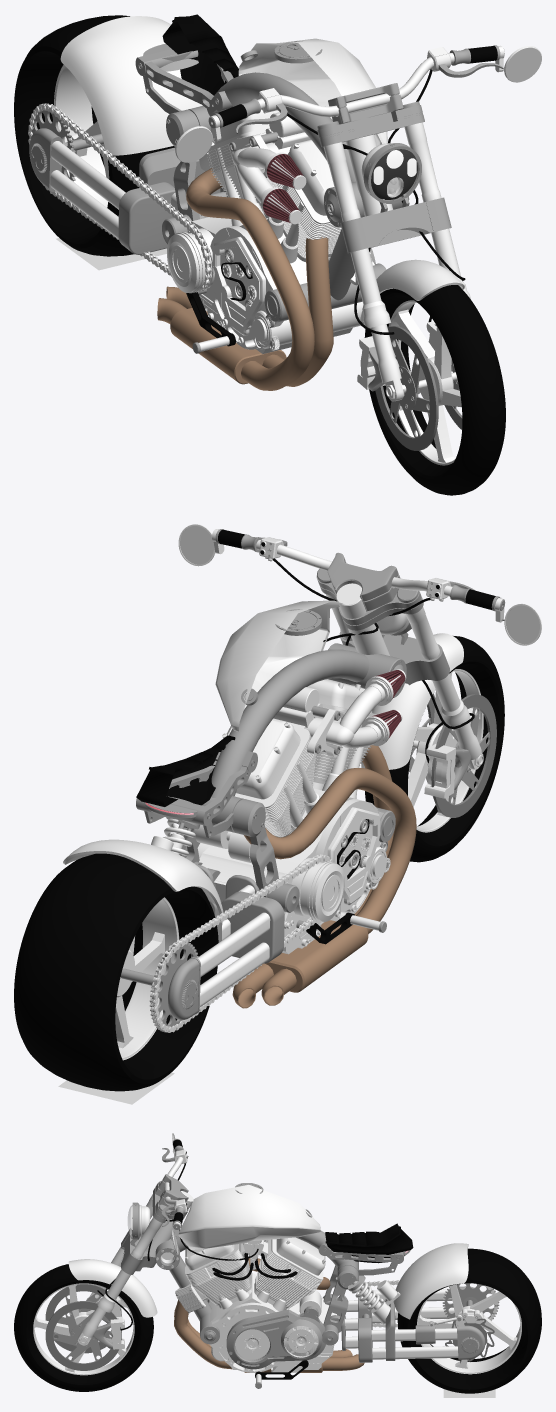
File: velocity-bike.glb
3 views of the same model, one above another, from view 1: azimuth 30°, elevation 25°; view 2: azimuth 150°, elevation 25°; view 3: azimuth 270°, elevation 25° (orthographic). The views are drawn at different scales.
Parts seen in each view (by area): view 1: Engine, front_bar, front_tire, Back, Frame, Back_tire, fuel_tank, Front_bar_suspension, saddle, chain, cables, Plane (+1 smaller); view 2: Engine, Back_tire, front_bar, Frame, Back, front_tire, fuel_tank, Front_bar_suspension, saddle, chain, Plane, cables (+1 smaller); view 3: Engine, front_tire, Back_tire, Back, fuel_tank, Frame, front_bar, Engine_cap, Front_bar_suspension, saddle, back_suspension_Bottom, Spring (+1 smaller).
Part boxes in pixels (<box>): Engine: <box>157,109,374,390</box>; front_bar: <box>175,45,541,328</box>; front_tire: <box>364,285,505,495</box>; Back: <box>29,16,227,254</box>; Frame: <box>135,43,409,353</box>; Back_tire: <box>14,15,174,256</box>; fuel_tank: <box>238,38,387,145</box>; Front_bar_suspension: <box>357,259,464,401</box>; saddle: <box>162,14,238,95</box>; chain: <box>28,103,212,292</box>; cables: <box>287,69,465,359</box>; Plane: <box>56,238,166,270</box>; Engine: <box>194,669,416,1008</box>; Back_tire: <box>14,853,218,1091</box>; front_bar: <box>178,524,541,729</box>; Frame: <box>136,643,406,944</box>; Back: <box>63,839,284,1019</box>; front_tire: <box>365,636,504,862</box>; fuel_tank: <box>215,600,342,731</box>; Front_bar_suspension: <box>360,633,483,798</box>; saddle: <box>136,735,235,806</box>; chain: <box>150,854,333,1032</box>; Plane: <box>58,1072,174,1104</box>; cables: <box>272,558,474,763</box>; Engine: <box>174,1237,364,1372</box>; front_tire: <box>14,1264,153,1391</box>; Back_tire: <box>397,1248,541,1393</box>; Back: <box>330,1243,494,1362</box>; fuel_tank: <box>178,1185,320,1250</box>; Frame: <box>155,1230,410,1388</box>; front_bar: <box>97,1133,193,1312</box>; Engine_cap: <box>226,1306,325,1369</box>; Front_bar_suspension: <box>68,1259,157,1349</box>; saddle: <box>325,1223,413,1263</box>; back_suspension_Bottom: <box>359,1280,400,1323</box>; Spring: <box>351,1281,383,1310</box>.
Size of the model in its own units: 0.9987 by 0.9297 by 2.08.
